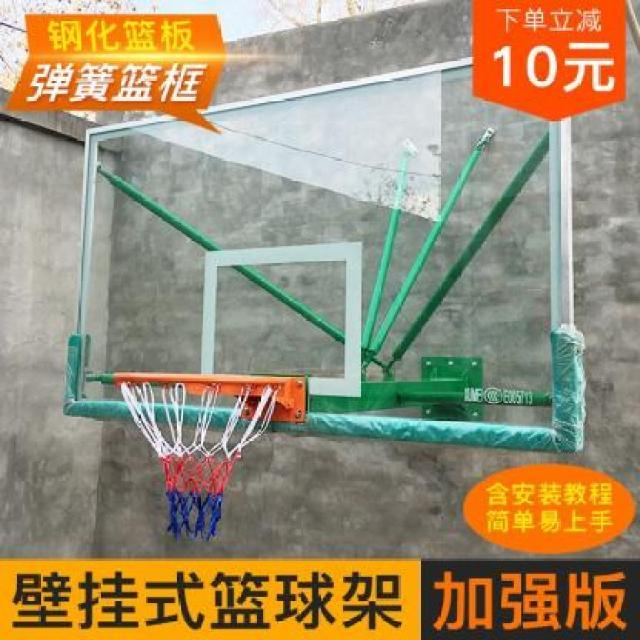rim: (108, 372, 284, 540)
